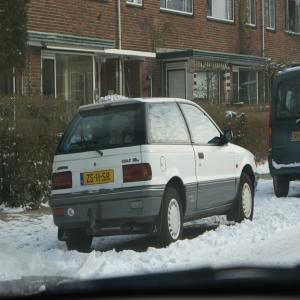Vehicle-registration-plate: (80, 169, 116, 187), (291, 130, 300, 142)
